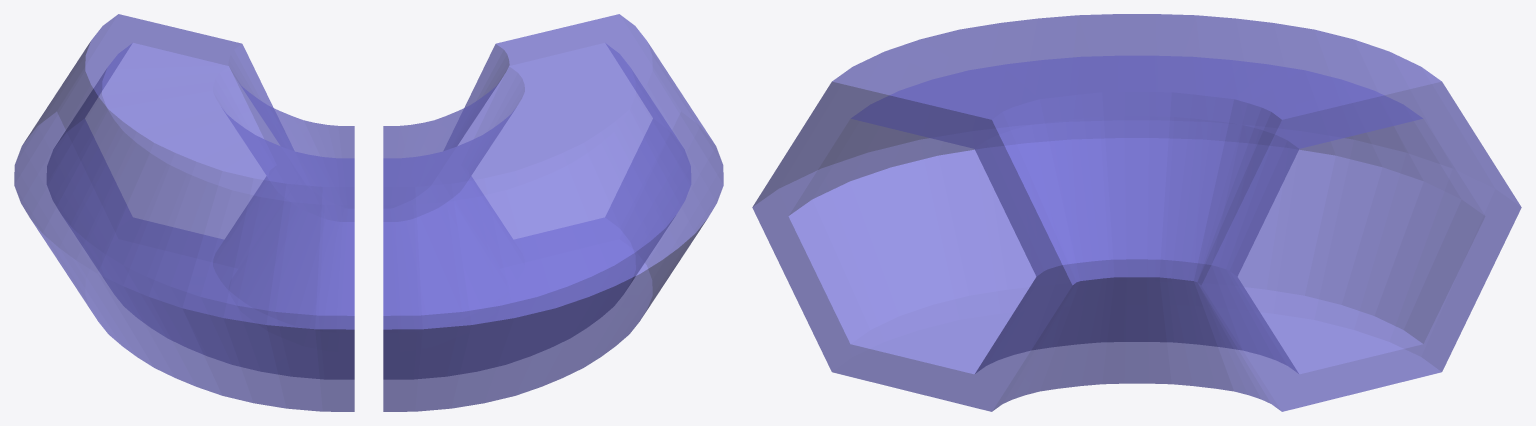
Rendered from curva60.glb.
3 renders of one model, left to right at view 1: azimuth 30°, elevation 25°; view 2: azimuth 150°, elevation 25°; view 3: azimuth 270°, elevation 25°, orthographic. The views are drawn at different scales.
Parts seen in each view (by area): view 1: curva60-col; view 2: curva60-col; view 3: curva60-col.
Part boxes in pixels (bbox=[...]): curva60-col: bbox=[14, 14, 354, 411]; curva60-col: bbox=[383, 14, 723, 411]; curva60-col: bbox=[752, 14, 1521, 411].
Size of the model in its own units: 0.653 by 0.5389 by 1.29.
